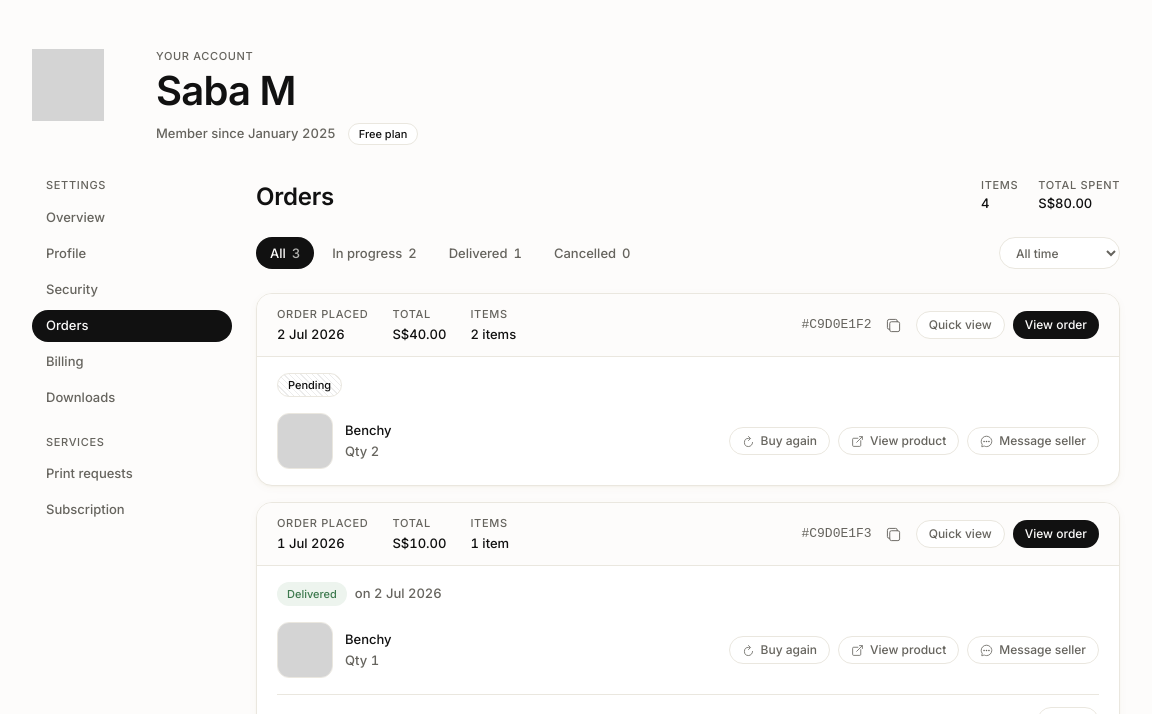
it: Account hub › quick view opens the peek with the full detail, note, copy id and order-again
Newest card first: ORDER_A's quick view carries its note + detail link.
Click the button "Quick view" next to "C9D0E1F2": (960, 325) [916,311,1005,339]
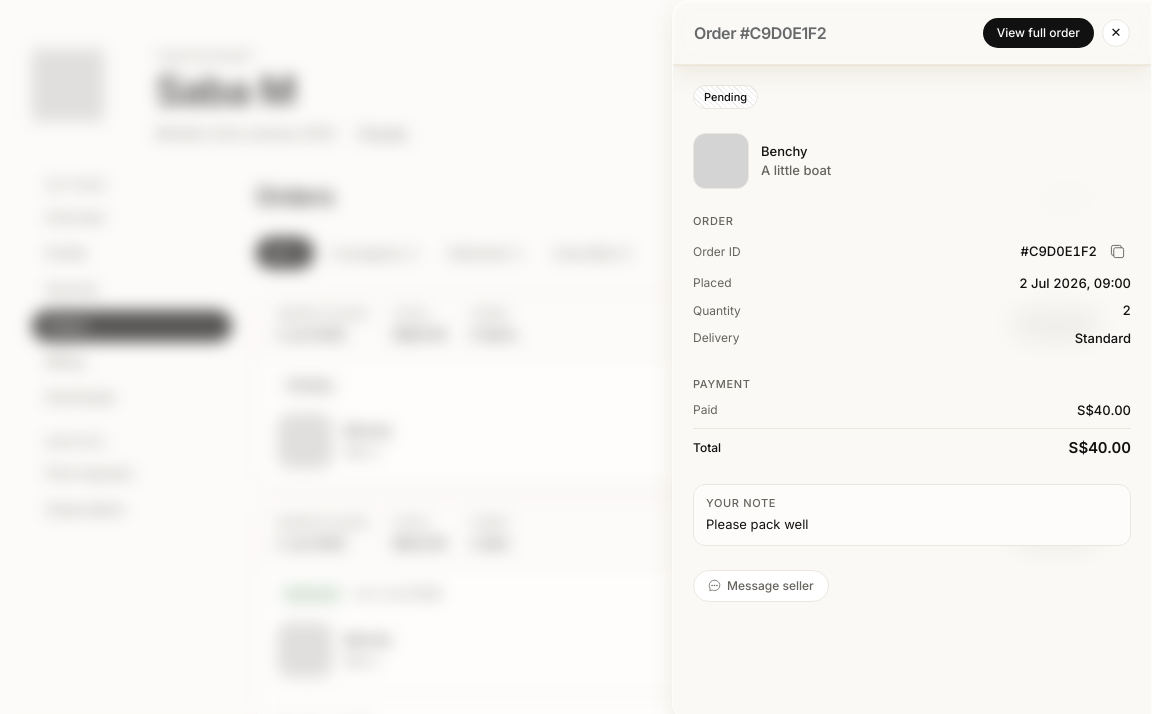
expect the text "Please pack well" is shown: met, box [706,516,808,532]
expect the button named "Copy order ID" is shown: met, box [1103,238,1131,266]
